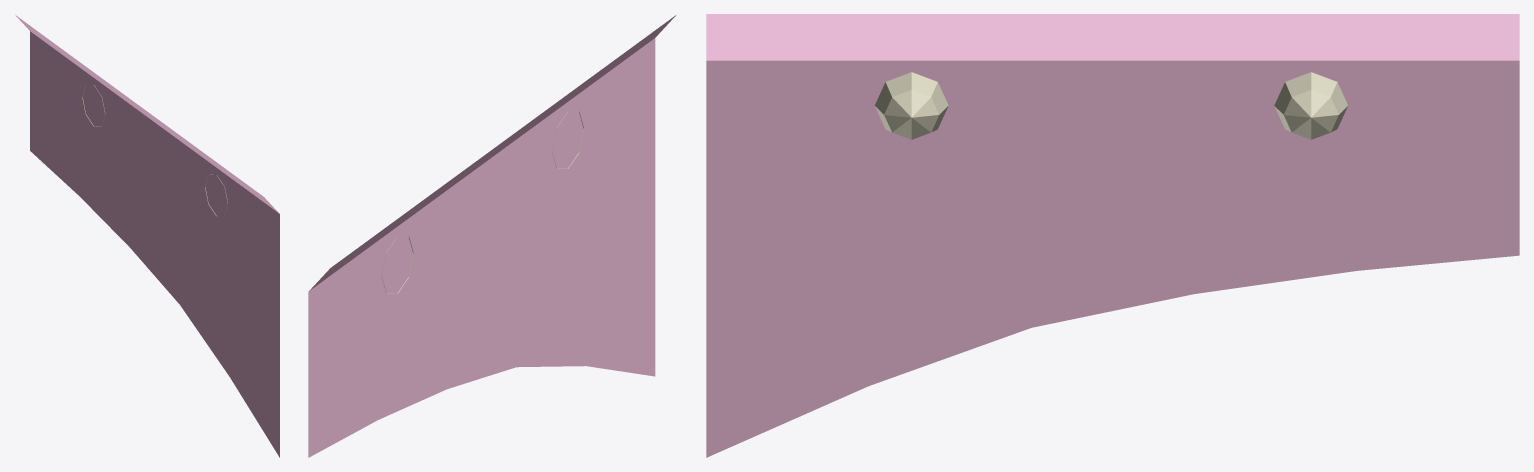
3 renders of one model, left to right at view 1: azimuth 30°, elevation 25°; view 2: azimuth 150°, elevation 25°; view 3: azimuth 270°, elevation 25°, orthographic. The views are drawn at different scales.
Visible parts, largest first — view 1: Object02; view 2: Object02; view 3: Object02.
Boxes of the visible parts, box(x1,y1,x2,y2) form: Object02: box(15, 15, 279, 457); Object02: box(308, 15, 675, 457); Object02: box(706, 14, 1519, 457).
Size of the model in its own units: 43.17 by 351 by 600.
